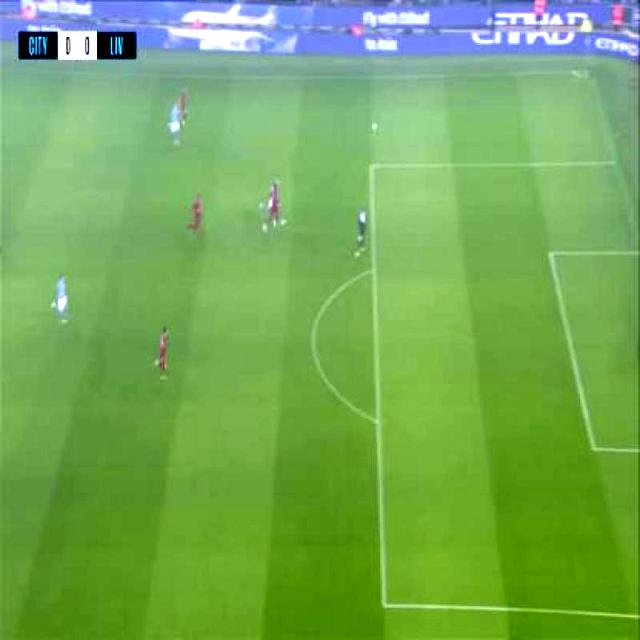bigarea_bottom_inner: (378, 596, 392, 614)
bigarea_top_inner: (363, 160, 383, 178)
bigarea_top_outter: (610, 156, 622, 169)
bottom_arc_area_intersection: (372, 412, 384, 431)
corner: (577, 68, 591, 80)
smallarea_bottom_inner: (586, 436, 602, 461)
smallarea_top_inner: (546, 245, 557, 265)
top_arc_area_intersection: (368, 260, 380, 280)
